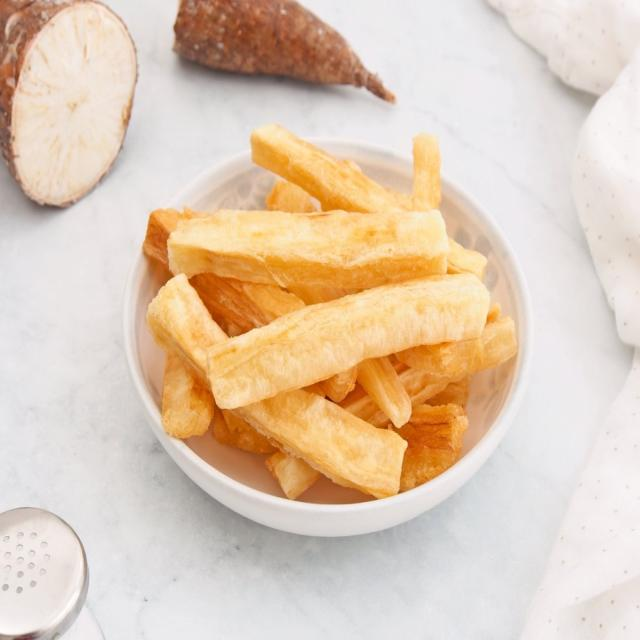yuca: (192, 271, 493, 411), (169, 195, 454, 298)
